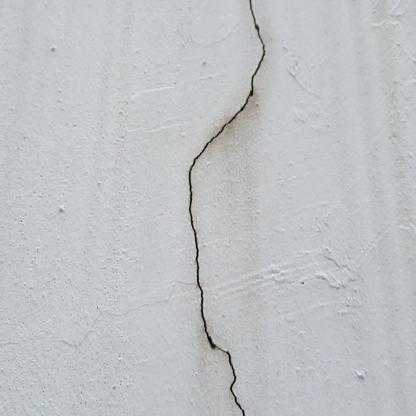crack: (186, 0, 267, 415)
